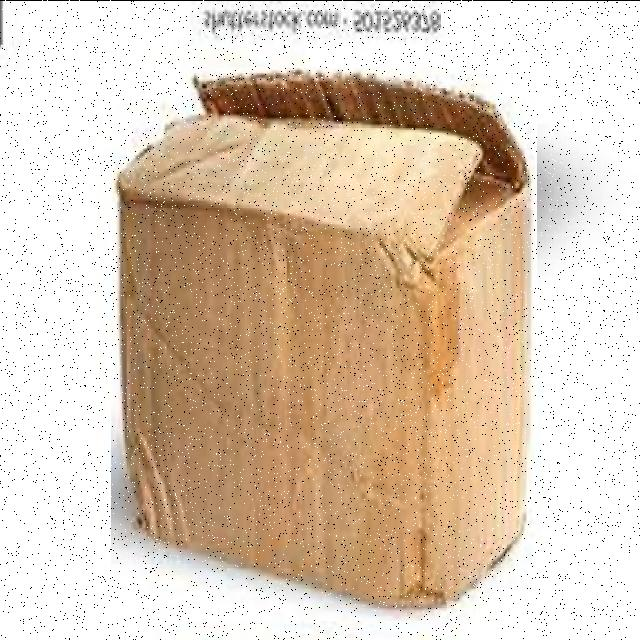defect: (111, 66, 537, 620)
